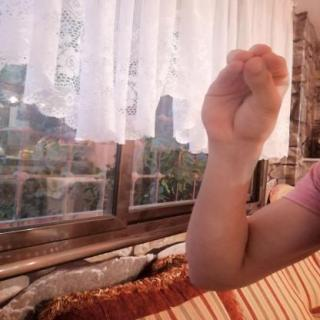HA: (192, 36, 298, 157)
